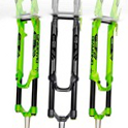Fork: (10, 2, 43, 128)
